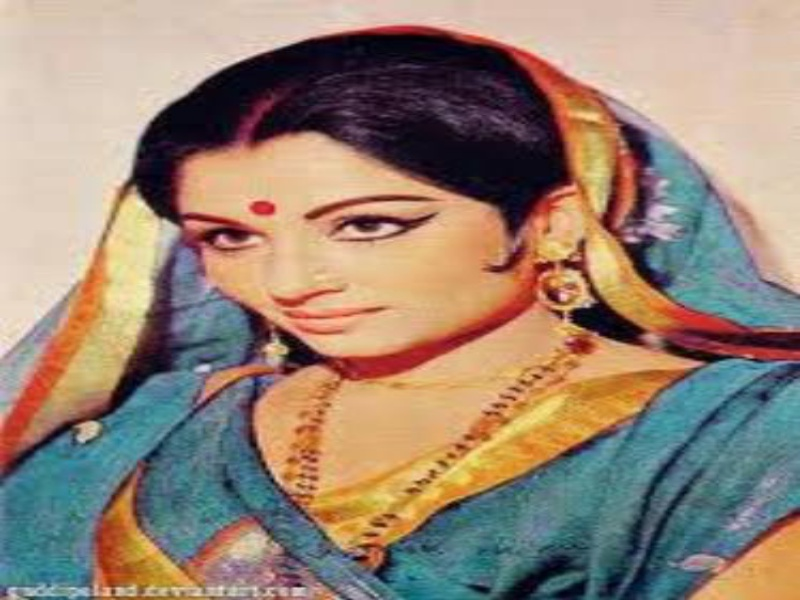TsisyArotava: (154, 93, 516, 406)
